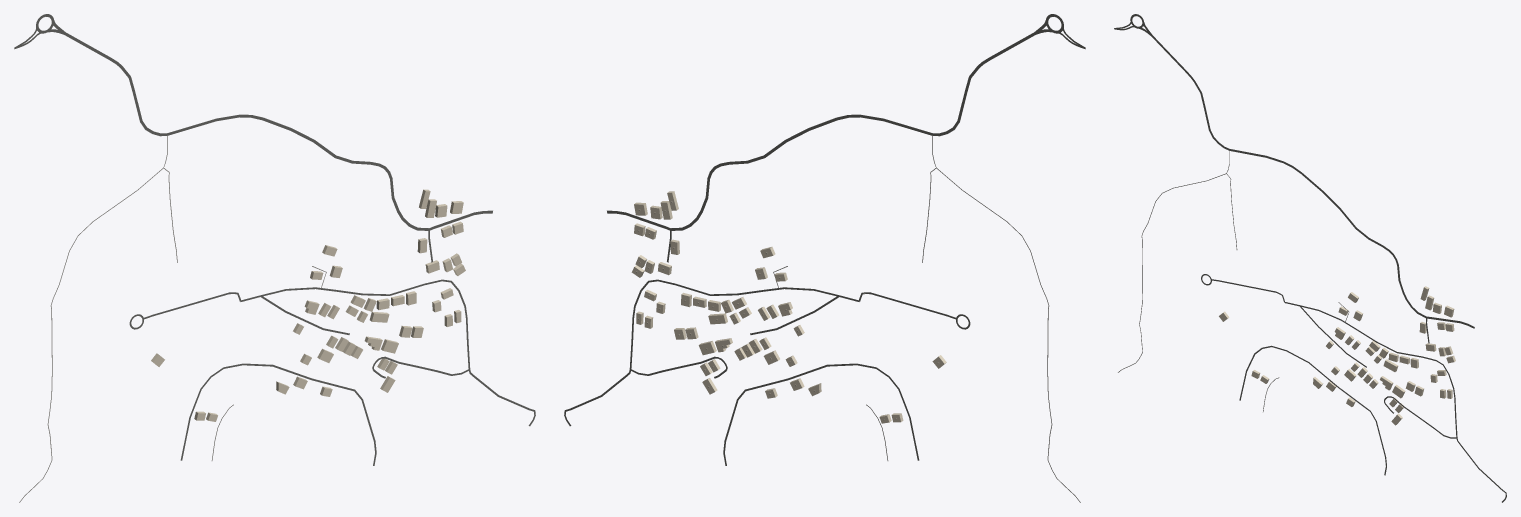
The model's file is historic-palestine-11_33_3527_3271.glb.
3 renders of one model, left to right at view 1: azimuth 30°, elevation 25°; view 2: azimuth 150°, elevation 25°; view 3: azimuth 330°, elevation 25°, orthographic. The views are drawn at different scales.
Visible parts, largest first — view 1: Road كرم الصاحب, Road .004, Road; view 2: Road كرم الصاحب, Road .004, Road; view 3: Road كرم الصاحب, Road .004, Road.
Boxes of the visible parts, x1=… form: Road كرم الصاحب: x1=64, y1=32, x2=492, y2=230; Road .004: x1=240, y1=279, x2=535, y2=426; Road: x1=180, y1=363, x2=376, y2=465; Road كرم الصاحب: x1=607, y1=32, x2=1035, y2=230; Road .004: x1=564, y1=279, x2=859, y2=426; Road: x1=723, y1=363, x2=919, y2=465; Road كرم الصاحب: x1=1152, y1=35, x2=1474, y2=328; Road .004: x1=1284, y1=302, x2=1506, y2=502; Road: x1=1239, y1=345, x2=1386, y2=475.
Bounding box in the file's own units: 987 × 962 × 8.7.
